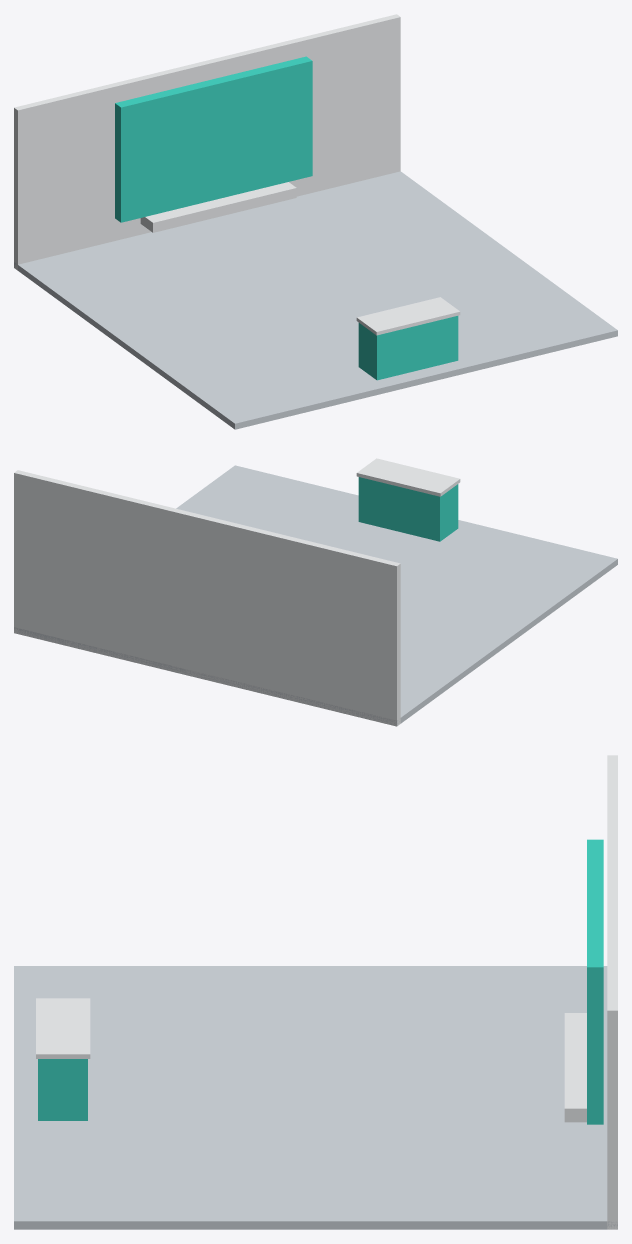
3 views of the same model, one above another, from view 1: azimuth 30°, elevation 25°; view 2: azimuth 150°, elevation 25°; view 3: azimuth 270°, elevation 25° (orthographic). The views are drawn at different scales.
Parts seen in each view (by area): view 1: Exhibition Booth Concept; view 2: Exhibition Booth Concept; view 3: Exhibition Booth Concept.
Boxes of the visible parts, x1,y1,x2,y2 form: Exhibition Booth Concept: [14, 14, 617, 429]; Exhibition Booth Concept: [14, 458, 617, 726]; Exhibition Booth Concept: [14, 755, 617, 1229].
Bounding box in the file's own units: 8 × 3.2 × 8.
